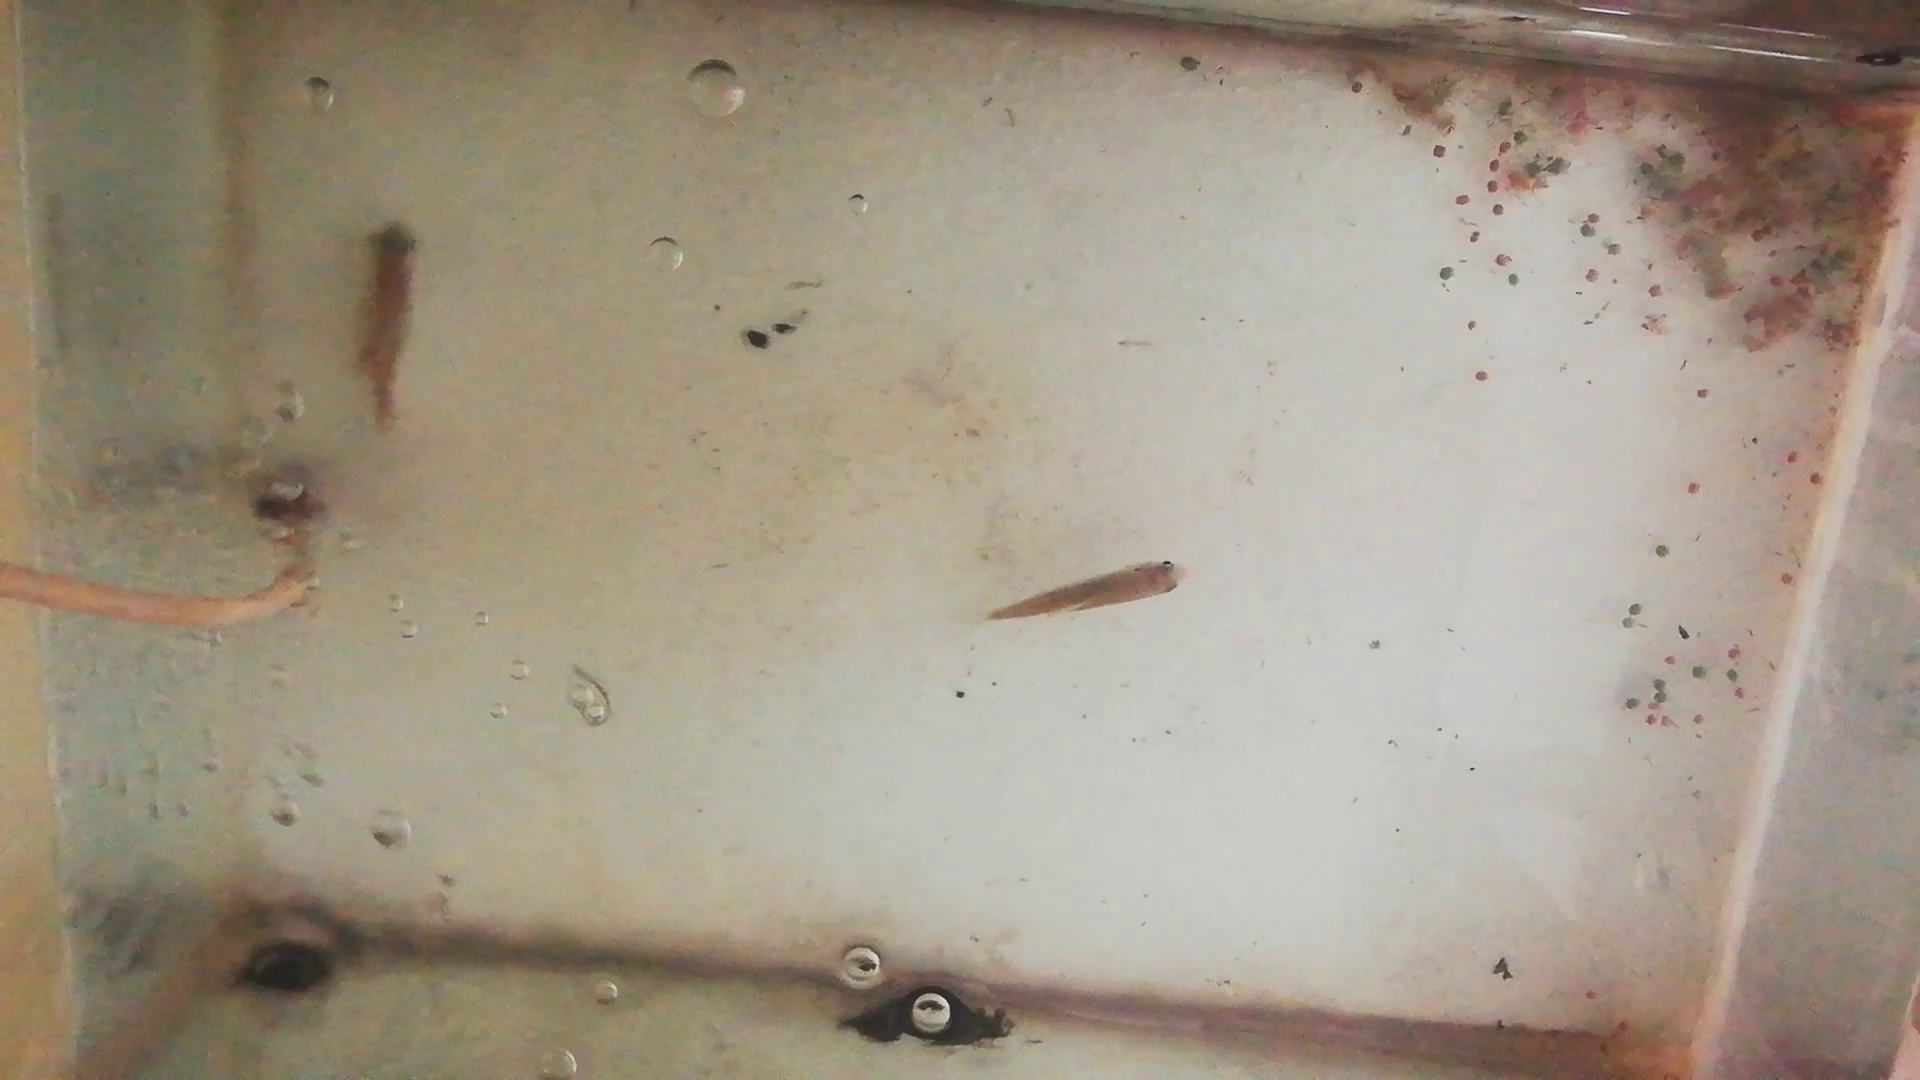fish: (992, 560, 1188, 629), (364, 218, 418, 430)
